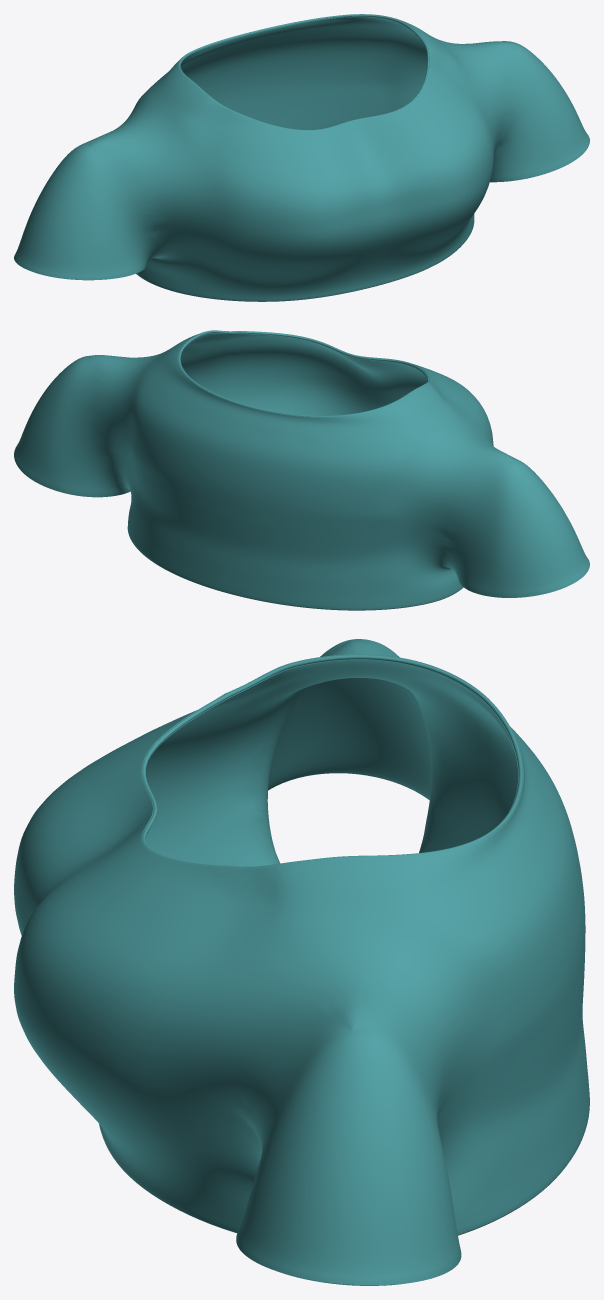
File: Feminine-tshirt-top.glb
3 renders of one model, top to bottom at view 1: azimuth 30°, elevation 25°; view 2: azimuth 150°, elevation 25°; view 3: azimuth 270°, elevation 25°, orthographic. The views are drawn at different scales.
Visible parts, largest first — view 1: Clothing / continuous T-shirt181, Neckline / seated181 export; view 2: Clothing / continuous T-shirt181, Neckline / seated181 export, Shirt / seated hem export; view 3: Clothing / continuous T-shirt181, Neckline / seated181 export.
Part boxes in pixels (bbox=[...]): Clothing / continuous T-shirt181: bbox=[14, 14, 589, 301]; Neckline / seated181 export: bbox=[179, 14, 429, 130]; Clothing / continuous T-shirt181: bbox=[14, 330, 589, 609]; Neckline / seated181 export: bbox=[179, 330, 429, 417]; Shirt / seated hem export: bbox=[142, 553, 463, 610]; Clothing / continuous T-shirt181: bbox=[14, 639, 589, 1285]; Neckline / seated181 export: bbox=[142, 655, 522, 867].
Size of the model in its own units: 1.08 by 0.3393 by 0.5078.
